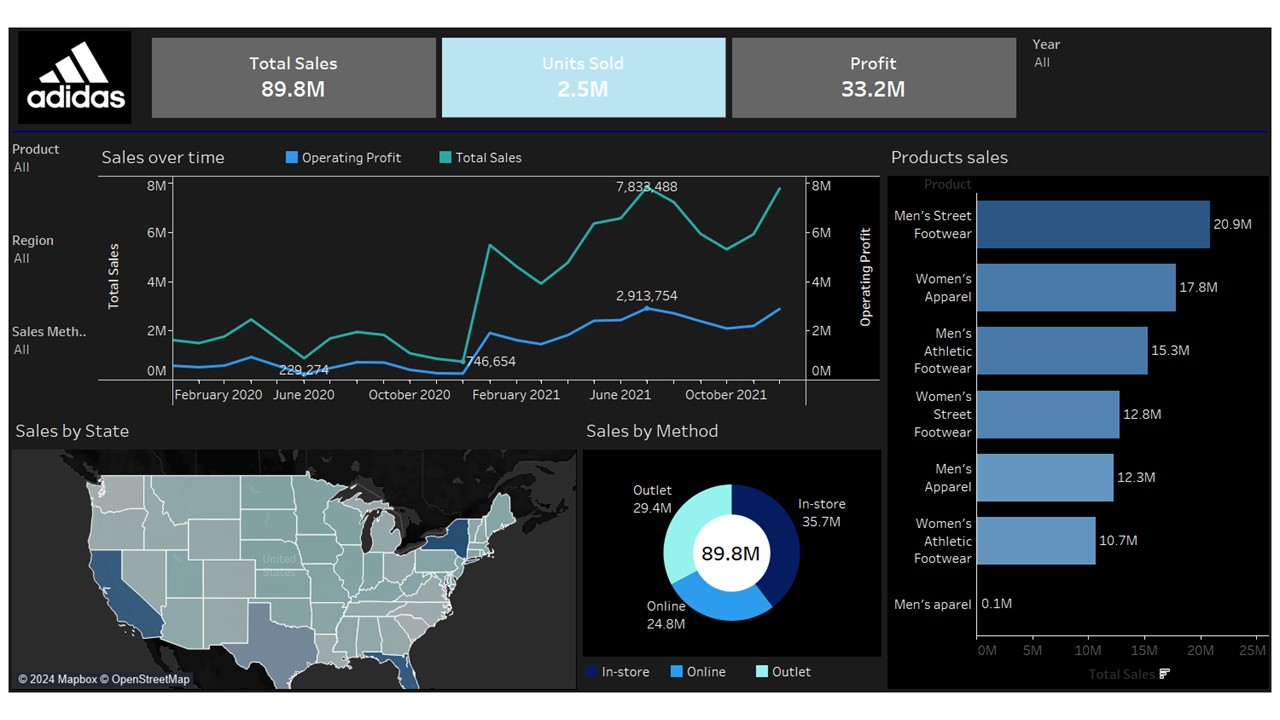

What the dashboard file says about the page in this screenshot:
{"tool":"tableau","page":{"name":"Dashboard 1","canvas":[1500,800],"ordinal":0},"visuals":[{"type":"image","param":"Image/download.jpg","box":[10,10,156,117]},{"type":"filter","title":"profit card","param":"[federated.111xlkc1e8337o13sua3k05t8i7v].[yr:Invoice Date:ok]","box":[1202,10,288,113]},{"type":"worksheet","title":"sales card","mark":"Automatic","box":[174,18,340,101]},{"type":"worksheet","title":"units card","mark":"Automatic","box":[514,18,340,101]},{"type":"worksheet","title":"profit card","mark":"Automatic","box":[854,18,340,101]},{"type":"blank","box":[10,127,1480,10]},{"type":"filter","title":"profit card","param":"[federated.111xlkc1e8337o13sua3k05t8i7v].[none:Product:nk]","box":[10,137,101,107]},{"type":"worksheet","title":"Sales over time","mark":"Automatic","rows":["Total Sales","Operating Profit"],"cols":["Invoice Date"],"box":[111,137,925,321]},{"type":"worksheet","title":"Products sales","mark":"Automatic","rows":["Product"],"cols":["Total Sales"],"box":[1036,137,454,653]},{"type":"legend","title":"Sales over time","param":"[federated.111xlkc1e8337o13sua3k05t8i7v].[:Measure Names]","box":[332,152,458,25]},{"type":"filter","title":"profit card","param":"[federated.111xlkc1e8337o13sua3k05t8i7v].[none:Region:nk]","box":[10,244,101,107]},{"type":"filter","title":"profit card","param":"[federated.111xlkc1e8337o13sua3k05t8i7v].[none:Sales Method:nk]","box":[10,351,101,107]},{"type":"worksheet","title":"Sales by State","mark":"Automatic","box":[10,458,669,332]},{"type":"worksheet","title":"Sales by Method","mark":"Pie","cols":["Calculation_2814186854076891137","Calculation_2814186854077497347"],"box":[679,458,357,293]},{"type":"legend","title":"Sales by Method","param":"[federated.111xlkc1e8337o13sua3k05t8i7v].[none:Sales Method:nk]","box":[679,751,357,39]}]}

Visuals, with their boxes on the page's 1500x800 design canvas (x1, y1, x2, y2). These are canvas units, not pixel positions in the 1280x720 screenshot, which may show the page scaled, cropped or inside an application window:
image: [10,10,166,127]
"profit card" filter: [1202,10,1490,123]
"sales card" worksheet: [174,18,514,119]
"units card" worksheet: [514,18,854,119]
"profit card" worksheet: [854,18,1194,119]
blank: [10,127,1490,137]
"profit card" filter: [10,137,111,244]
"Sales over time" worksheet: [111,137,1036,458]
"Products sales" worksheet: [1036,137,1490,790]
"Sales over time" legend: [332,152,790,177]
"profit card" filter: [10,244,111,351]
"profit card" filter: [10,351,111,458]
"Sales by State" worksheet: [10,458,679,790]
"Sales by Method" worksheet (Pie marks): [679,458,1036,751]
"Sales by Method" legend: [679,751,1036,790]
